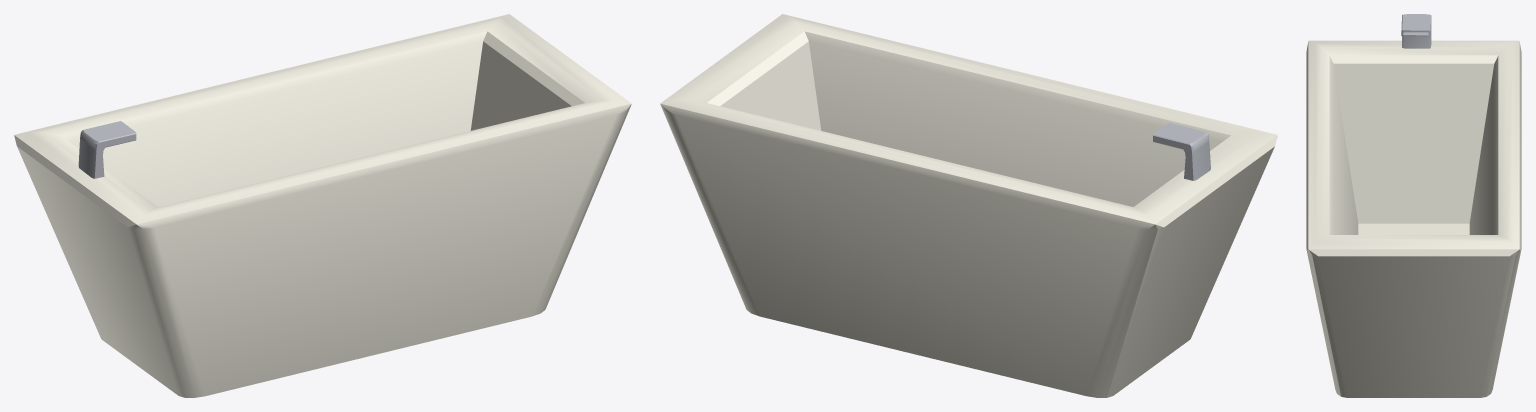
File: Baignoire.fbx
3 renders of one model, left to right at view 1: azimuth 30°, elevation 25°; view 2: azimuth 150°, elevation 25°; view 3: azimuth 270°, elevation 25°, orthographic. The views are drawn at different scales.
Parts seen in each view (by area): view 1: Baignoire; view 2: Baignoire; view 3: Baignoire.
Part boxes in pixels (x1,y1,x2,y2): Baignoire: (14,14,631,397); Baignoire: (660,14,1277,397); Baignoire: (1306,14,1521,397).
Size of the model in its own units: 250 by 108 by 115.
